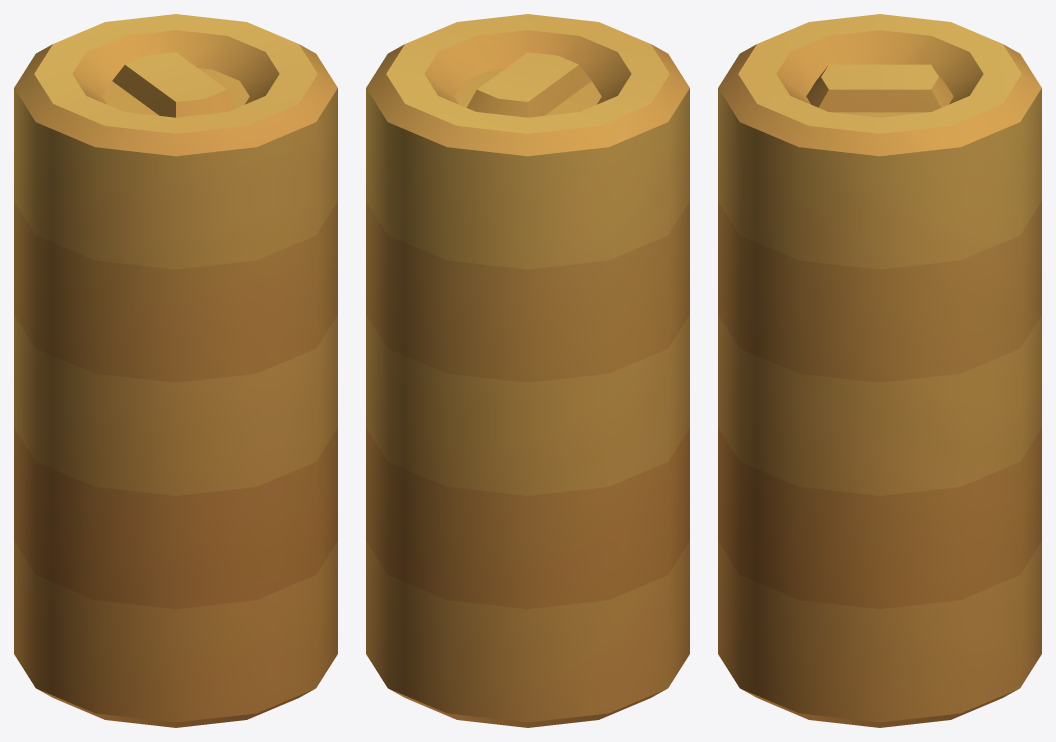
File: money_coins_stack_medium.glb
3 renders of one model, left to right at view 1: azimuth 30°, elevation 25°; view 2: azimuth 150°, elevation 25°; view 3: azimuth 270°, elevation 25°, orthographic.
Visible parts, largest first — view 1: Money_Coins_Stack_Medium; view 2: Money_Coins_Stack_Medium; view 3: Money_Coins_Stack_Medium.
Boxes of the visible parts, <box> form: Money_Coins_Stack_Medium: <box>14,14,337,727</box>; Money_Coins_Stack_Medium: <box>366,14,689,727</box>; Money_Coins_Stack_Medium: <box>718,14,1041,727</box>.
Size of the model in its own units: 0.247 by 0.5 by 0.247.
1 material, 1 textured.
